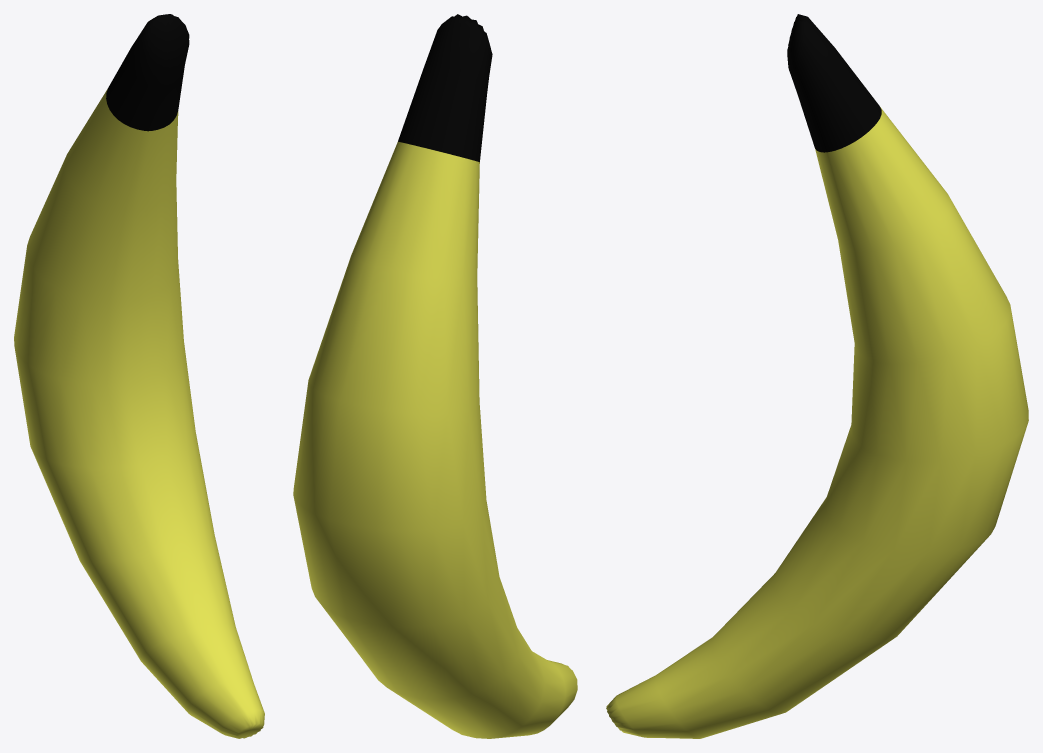
File: banan.fbx
3 views of the same model, side by side, from view 1: azimuth 30°, elevation 25°; view 2: azimuth 150°, elevation 25°; view 3: azimuth 270°, elevation 25° (orthographic). The views are drawn at different scales.
Parts seen in each view (by area): view 1: Cylinder; view 2: Cylinder; view 3: Cylinder.
Boxes of the visible parts, <box> form: Cylinder: <box>14,14,264,738</box>; Cylinder: <box>293,14,577,738</box>; Cylinder: <box>606,14,1028,738</box>.
Size of the model in its own units: 2.4 by 10.28 by 5.48.
